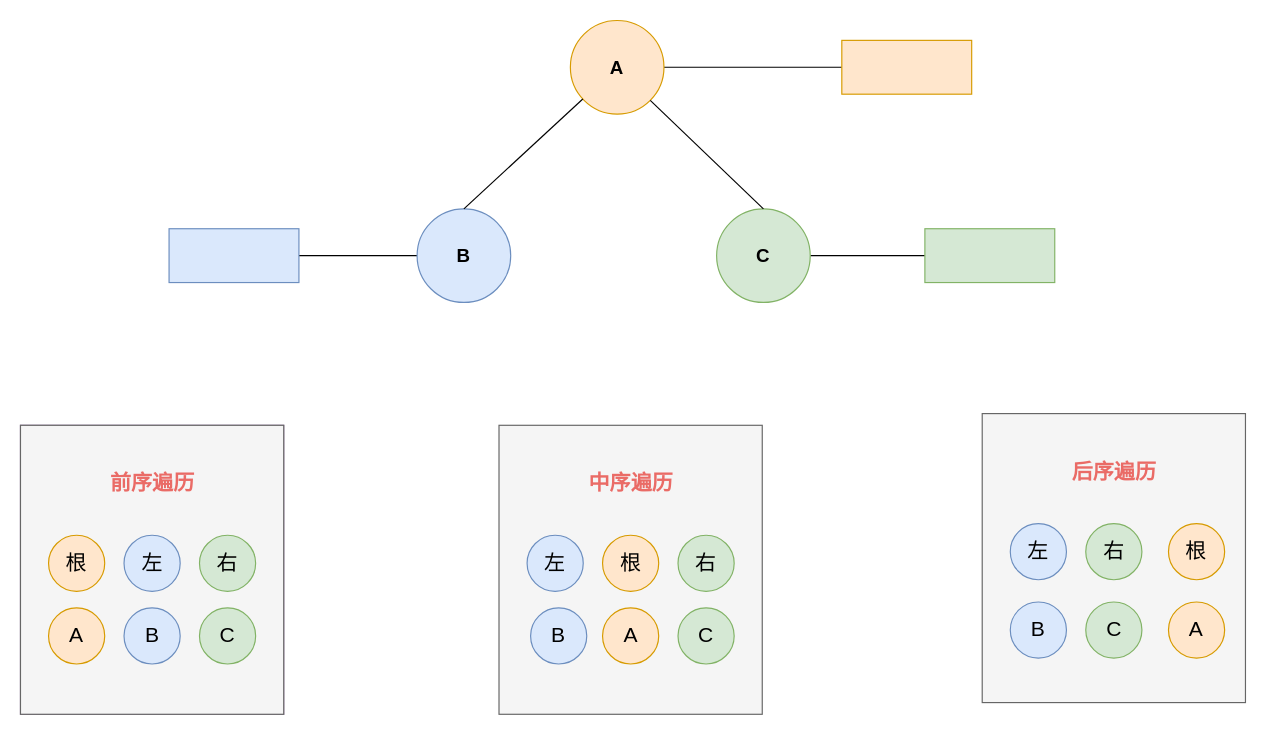
The diagram is 1266 pixels wide and 735 high, and some of its shapes have lost their labels. Each missing label, with the centre of its shape:
右子树: the point at 989,255
左子树: the point at 233,255
根节点: the point at 906,66
